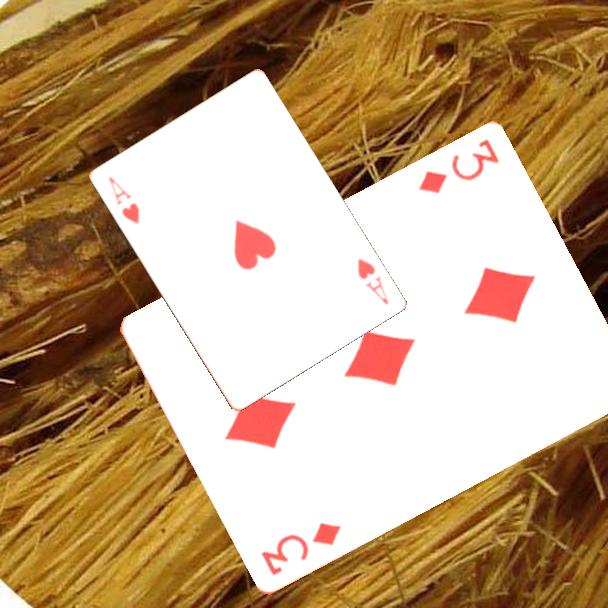d03: (414, 136, 502, 198), (257, 519, 344, 580)
h01: (104, 173, 142, 227), (353, 254, 391, 308)
